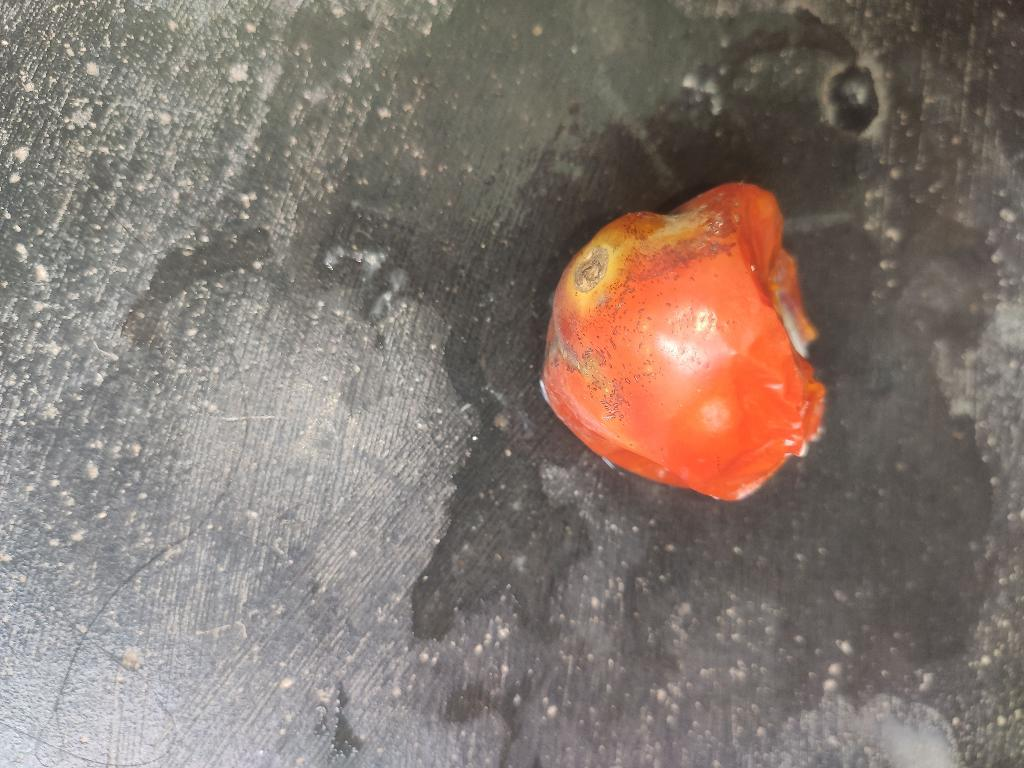bruise_discoloration: (564, 204, 710, 319), (720, 356, 793, 485)
rot_mold_decay: (576, 247, 609, 291)
surface_damage: (574, 193, 738, 424), (741, 188, 826, 457)
tomato: (543, 184, 824, 499)
